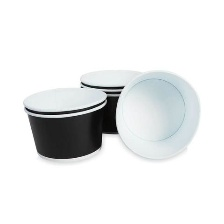paper_cup: (110, 66, 204, 164), (16, 83, 109, 167), (73, 65, 163, 138)
